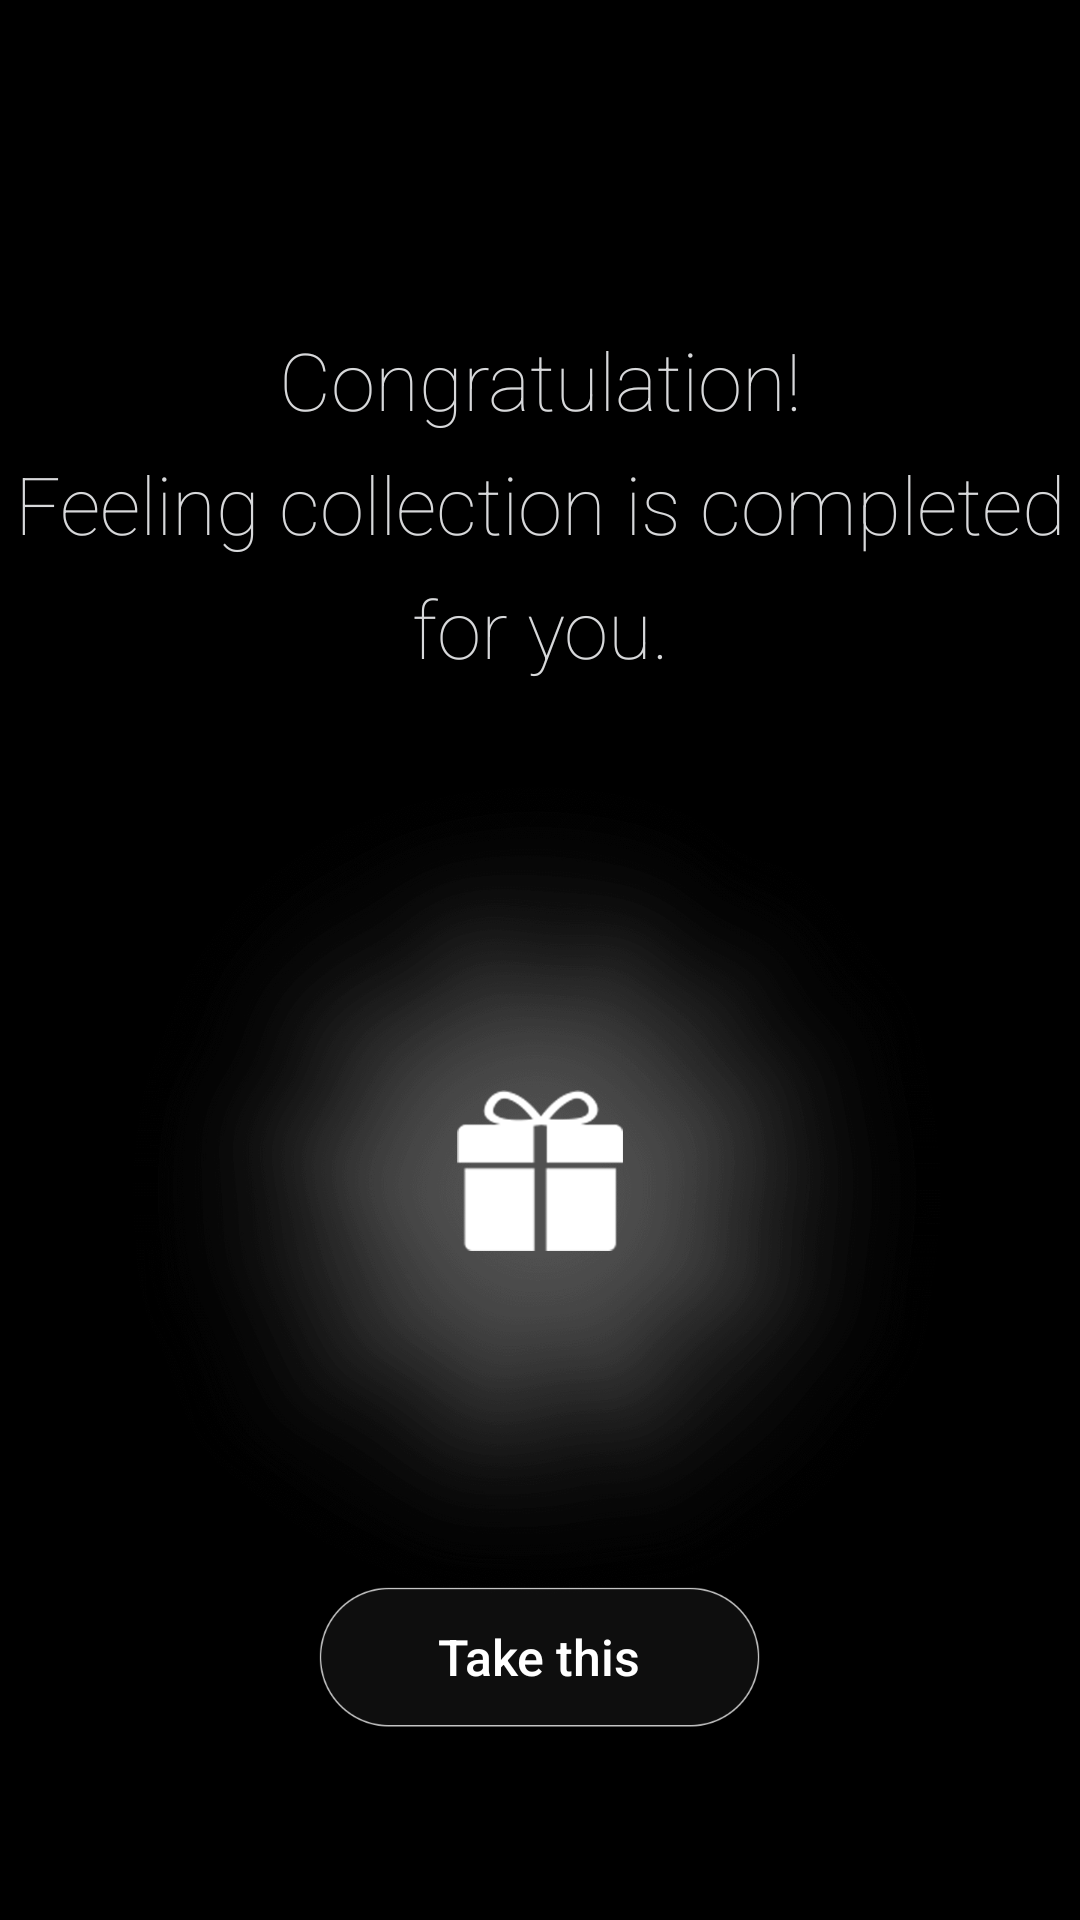

Point at icon controls on the screen. Image size 1080 x 1920, points as [x,y].
gift: [540,1170]
